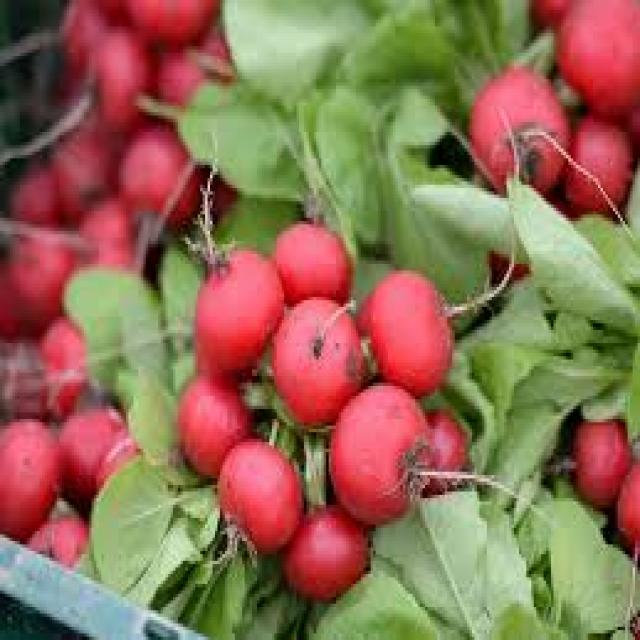organic waste: (0, 0, 638, 637), (217, 0, 534, 254), (380, 152, 638, 429), (84, 320, 309, 637), (467, 369, 638, 636), (450, 268, 638, 502), (373, 475, 566, 637), (138, 69, 326, 218), (59, 241, 200, 363), (302, 558, 474, 636), (331, 372, 425, 514), (469, 66, 566, 198), (348, 264, 448, 392), (200, 228, 284, 372), (269, 300, 366, 422), (208, 429, 302, 551), (274, 498, 371, 597), (558, 106, 638, 221), (554, 0, 638, 109), (173, 366, 250, 475), (50, 119, 124, 231), (0, 415, 59, 544), (119, 122, 198, 218), (57, 0, 136, 96), (0, 231, 72, 336), (52, 396, 121, 498), (89, 26, 151, 136), (267, 214, 346, 300), (148, 36, 230, 112), (564, 409, 626, 505), (70, 185, 138, 267), (114, 0, 222, 46), (208, 192, 294, 248), (40, 314, 84, 422), (22, 508, 94, 571), (422, 402, 474, 488), (74, 192, 141, 258), (0, 330, 44, 416), (10, 155, 57, 224), (94, 435, 146, 485), (610, 459, 638, 541), (531, 0, 576, 23)
